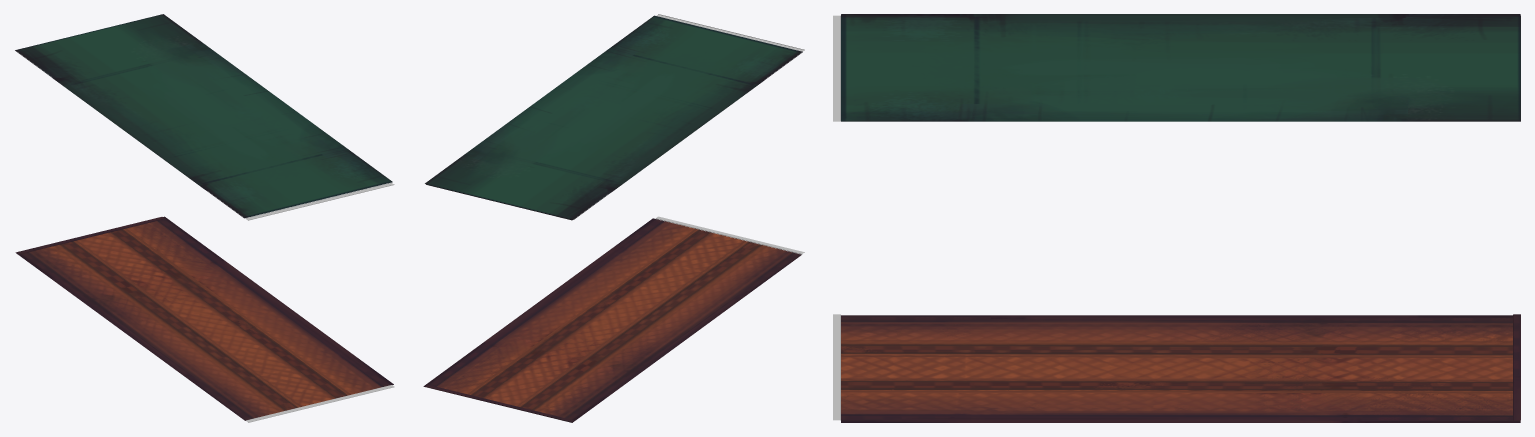
The model's file is floor_5.obj.
3 views of the same model, side by side, from view 1: azimuth 30°, elevation 25°; view 2: azimuth 150°, elevation 25°; view 3: azimuth 270°, elevation 25° (orthographic). The views are drawn at different scales.
Visible parts, largest first — view 1: floor_5; view 2: floor_5; view 3: floor_5.
Part boxes in pixels (<box>): floor_5: <box>15,14,394,422</box>; floor_5: <box>423,14,804,422</box>; floor_5: <box>833,14,1520,422</box>.
Bounding box in the file's own units: 184 × 238 × 493.
